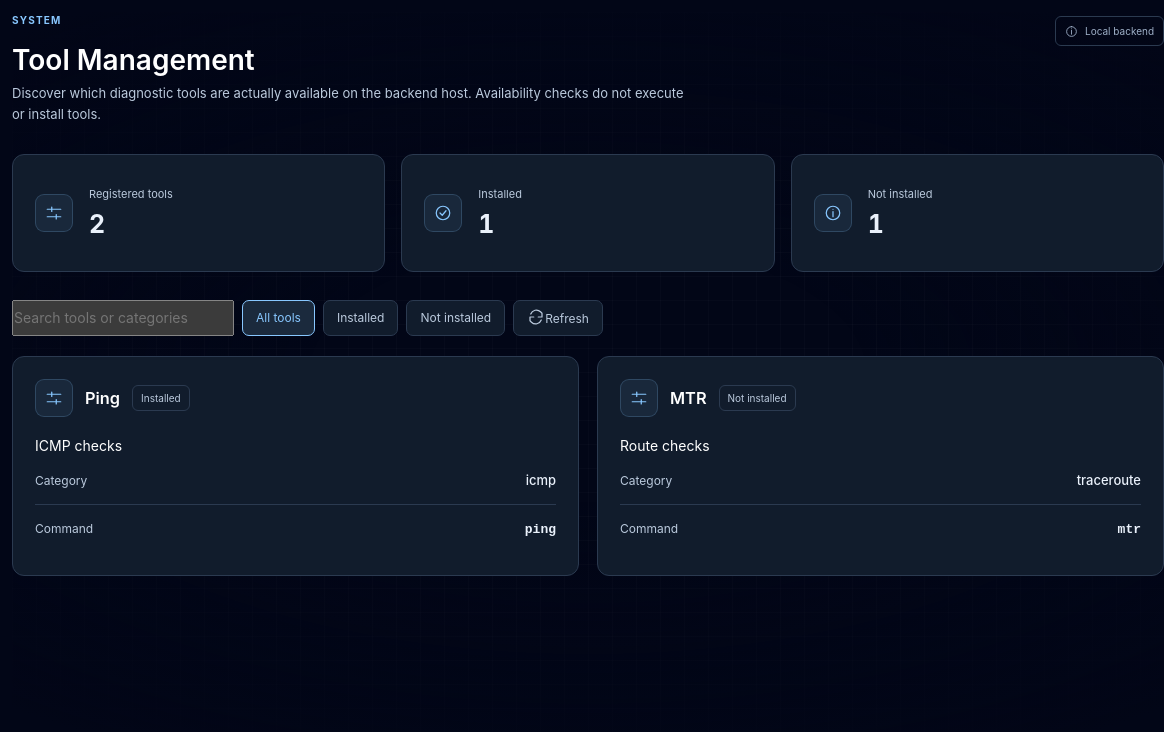
tool inventory renders backend values and filters actual availability
expect the heading "Ping" is shown: met, box [85,385,120,411]
Click the button "Installed".
click(361, 318)  # box [323,300,398,336]
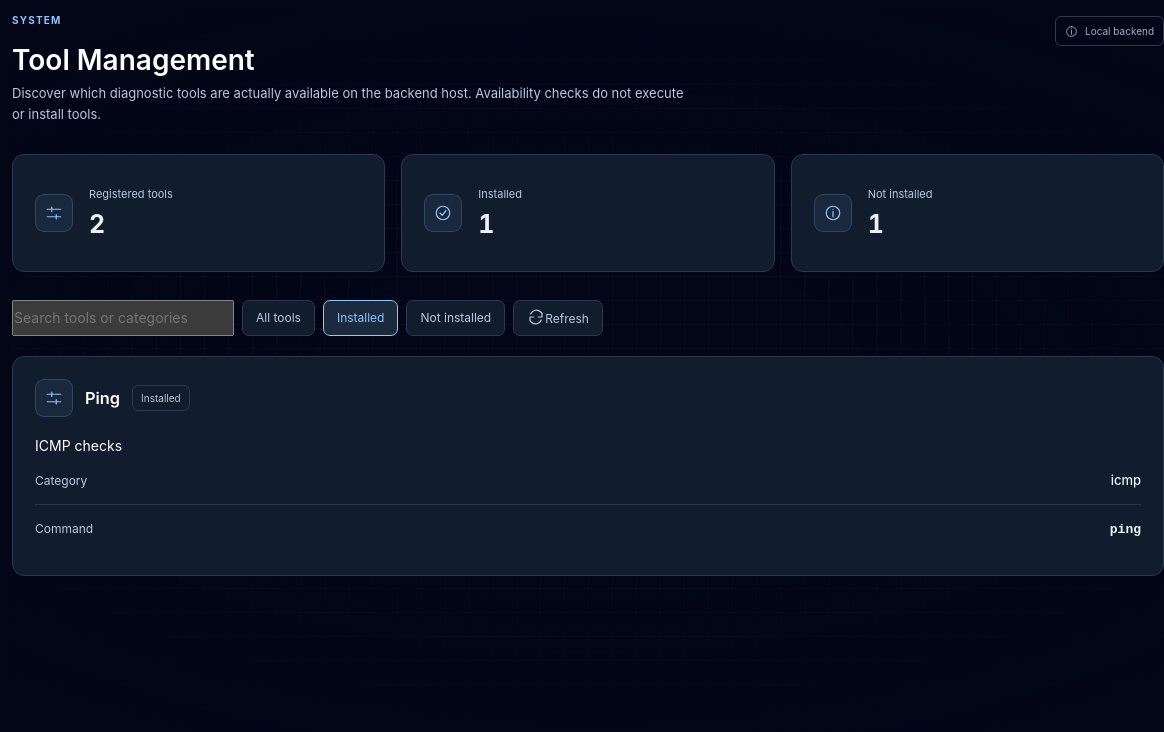
expect the heading "MTR" is gone: met
Click the button "All tools".
click(278, 318)  # box [242,300,315,336]
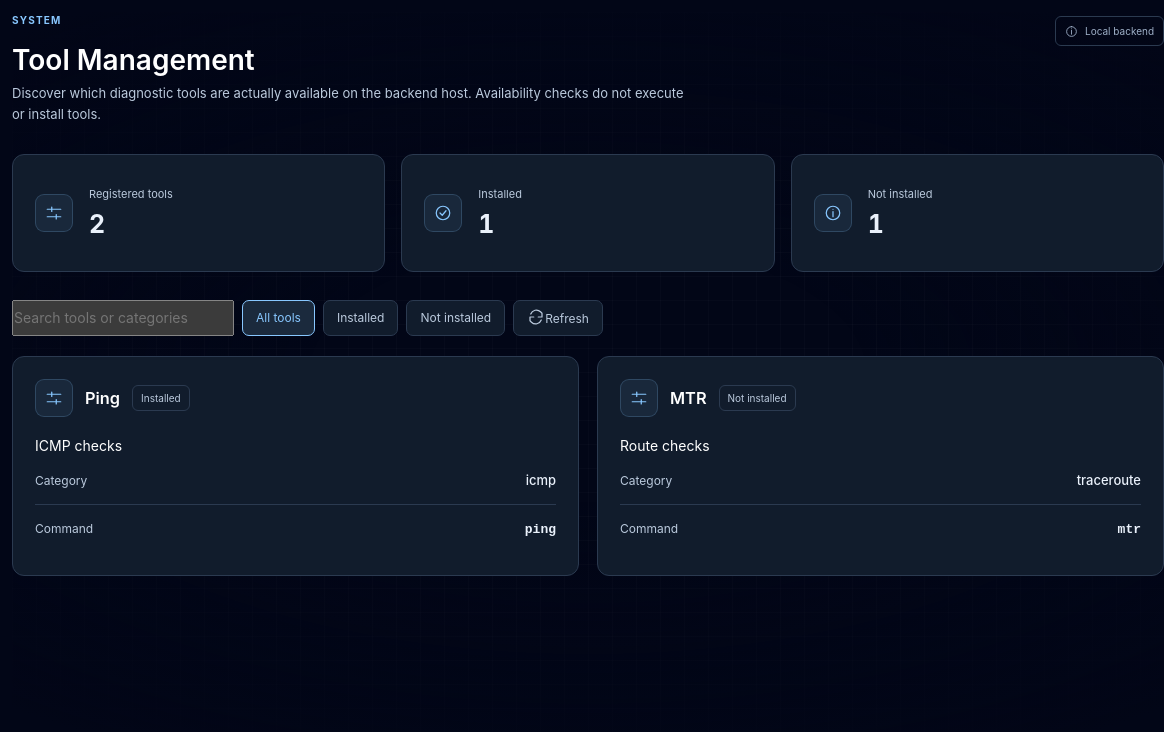
Type "route" into the field named "Search diagnostic tools".
click(123, 318); type("route")  # box [12,300,234,336]
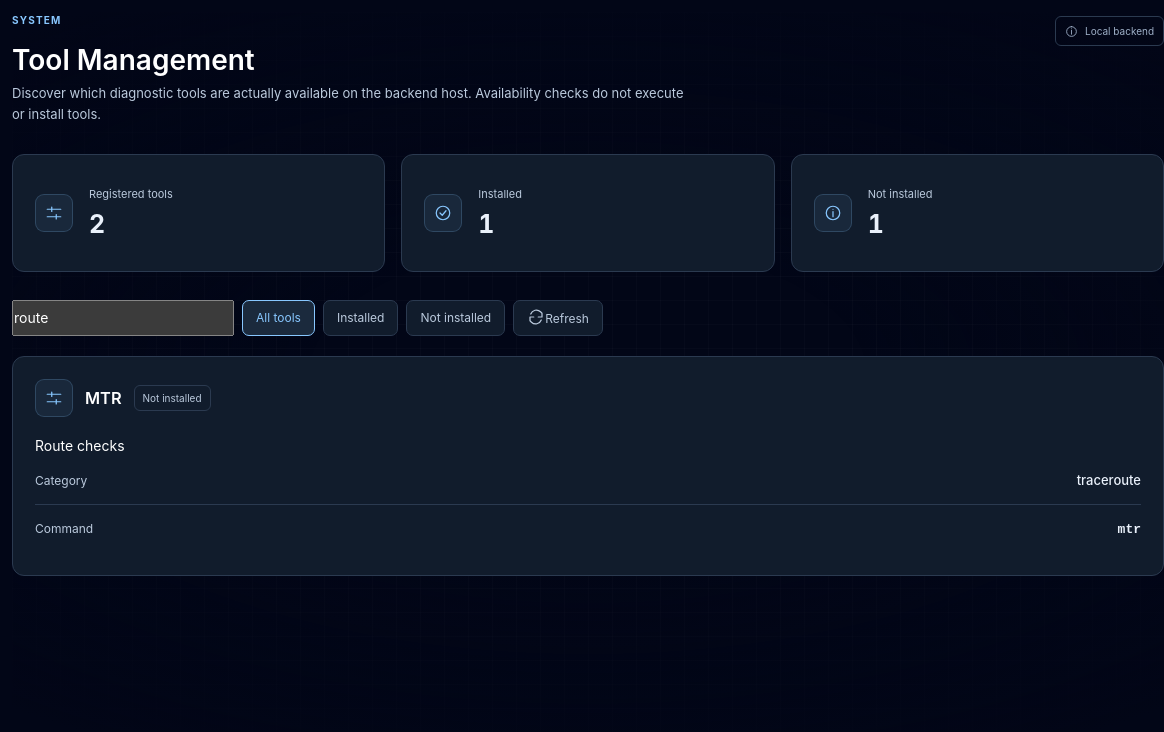
expect the heading "MTR" is shown: met, box [85,385,122,411]
expect the heading "Ping" is gone: met
